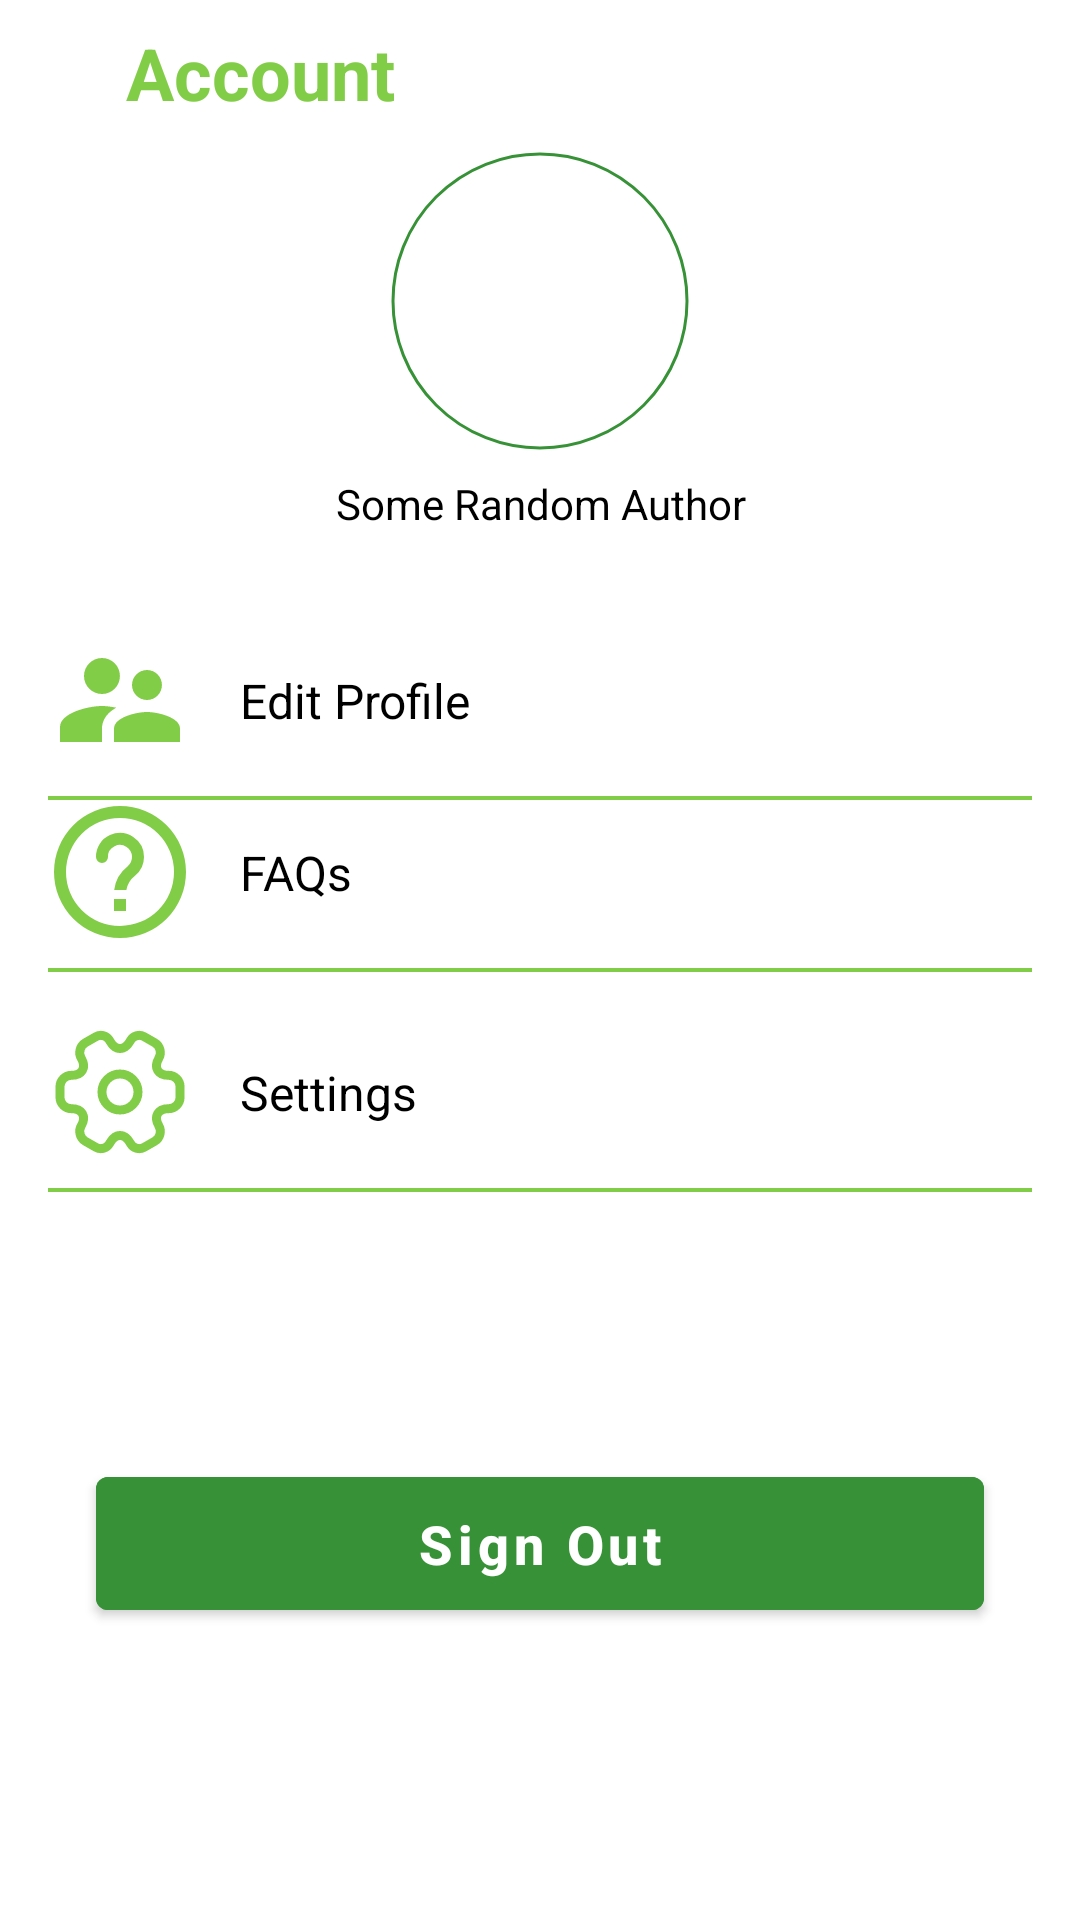

Icon bounding boxes for this 1080 x 1920 phone screenshot, format (x1, y1, x2, y2):
account: (60, 658, 180, 742)
faq: (54, 806, 186, 938)
